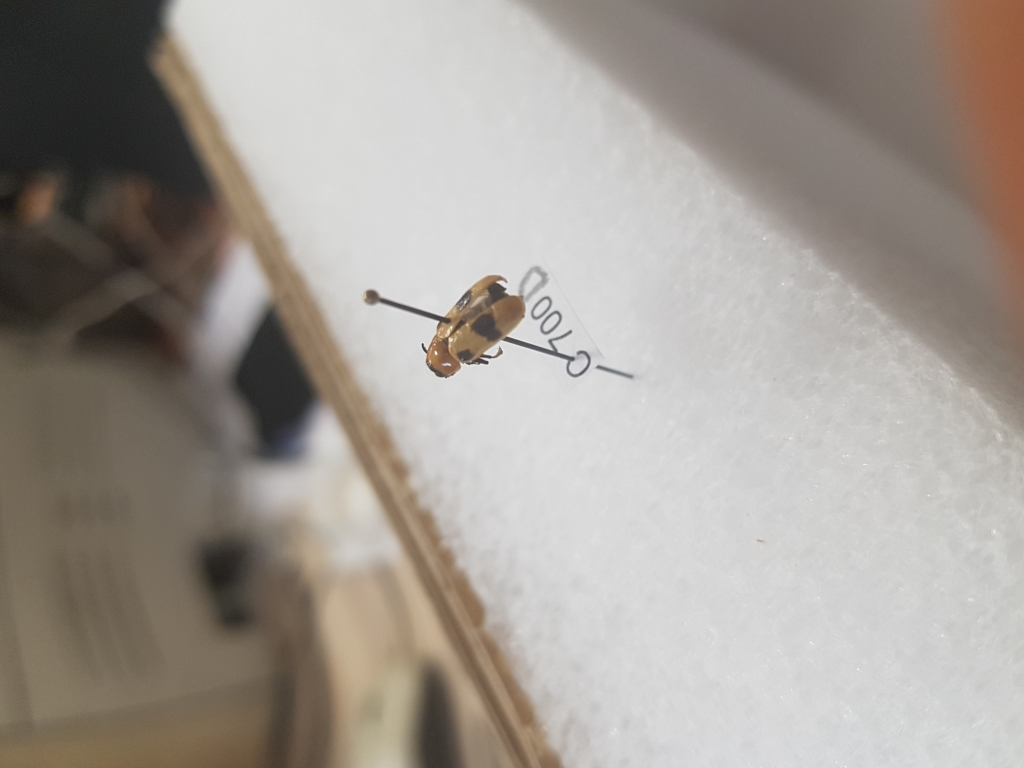Tituboea_macropus: (419, 274, 527, 378)
